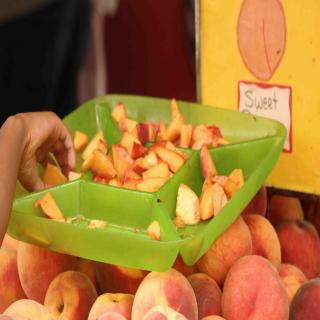Peach: (0, 184, 320, 320), (82, 98, 233, 193), (175, 141, 244, 225), (237, 0, 286, 79), (225, 261, 288, 320), (34, 192, 64, 219), (42, 161, 66, 189), (74, 130, 89, 152), (146, 220, 160, 242), (69, 171, 82, 182)
